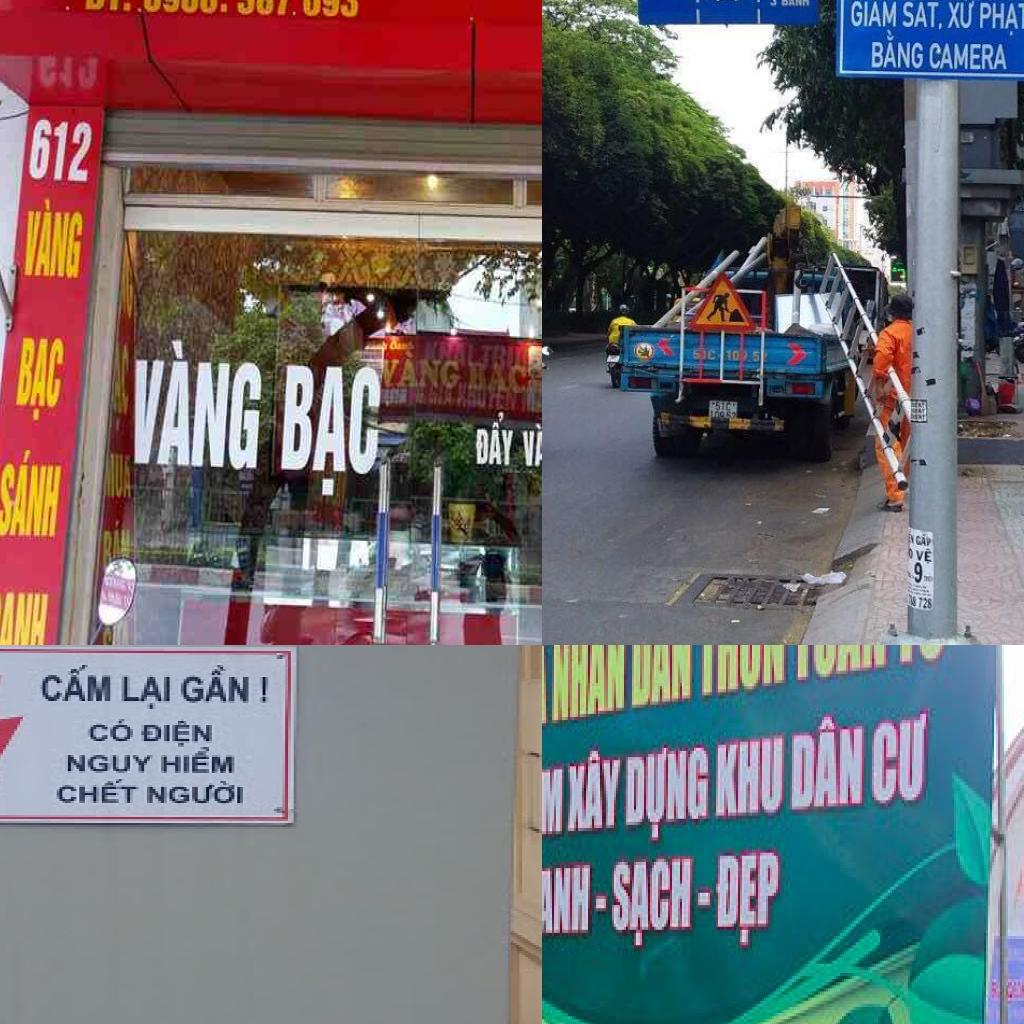text: (133, 338, 267, 474), (277, 362, 386, 501), (624, 742, 710, 846), (608, 856, 694, 951), (790, 710, 866, 816), (712, 850, 782, 952), (714, 732, 786, 822), (550, 645, 628, 726), (0, 445, 64, 541), (872, 708, 930, 810), (564, 745, 626, 837), (24, 198, 88, 282), (696, 645, 788, 701), (13, 335, 69, 423), (26, 117, 95, 187), (139, 0, 361, 21), (630, 645, 694, 710), (790, 645, 890, 686), (178, 665, 274, 707), (542, 865, 594, 939), (37, 661, 122, 705), (144, 779, 249, 807), (472, 410, 520, 471), (383, 352, 462, 389), (0, 588, 51, 645), (54, 777, 141, 807), (929, 41, 1011, 71), (158, 747, 240, 777), (870, 30, 926, 70), (119, 671, 175, 711), (65, 753, 158, 777), (542, 753, 566, 843), (142, 721, 218, 749), (112, 342, 133, 433), (979, 0, 1024, 37), (85, 717, 138, 747), (849, 0, 900, 29), (900, 0, 944, 31), (521, 421, 542, 471), (114, 452, 134, 502), (945, 0, 976, 30), (81, 0, 136, 16), (102, 619, 133, 645), (910, 594, 932, 610), (914, 547, 933, 564), (914, 533, 933, 549), (913, 560, 924, 583), (714, 400, 733, 412), (781, 0, 809, 8), (747, 350, 761, 365), (726, 349, 740, 363), (707, 350, 721, 362), (769, 0, 778, 7)
